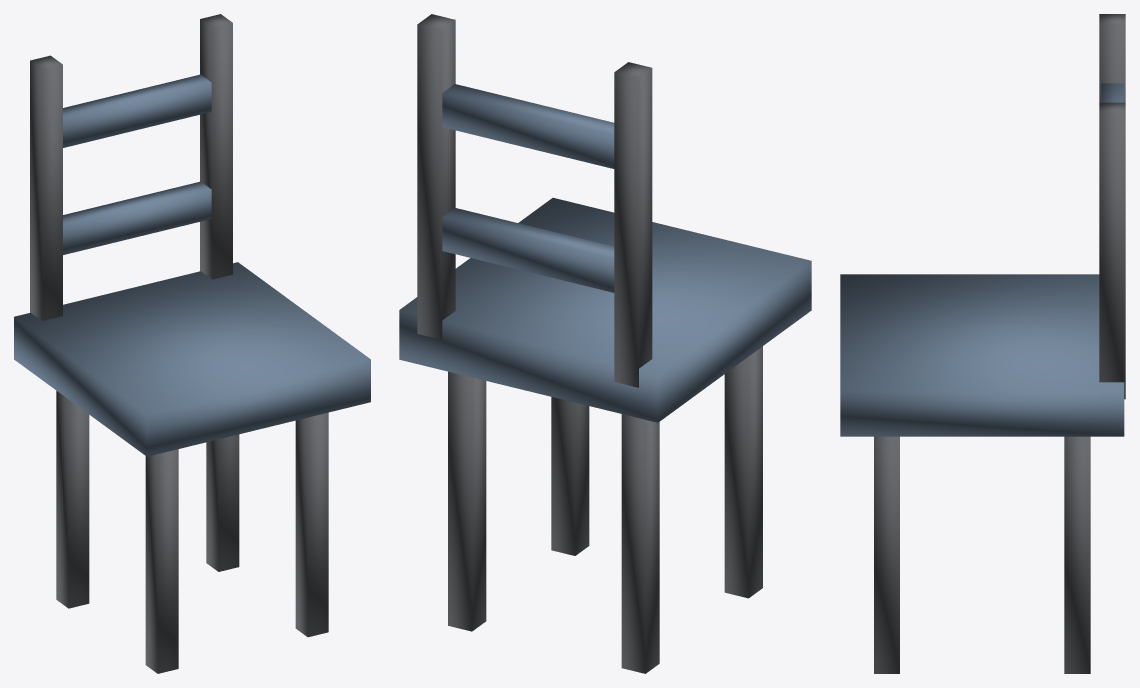
Rendered from armchair__compact.glb.
The picture shows the model from 3 angles, left to right: view 1: azimuth 30°, elevation 25°; view 2: azimuth 150°, elevation 25°; view 3: azimuth 270°, elevation 25°; orthographic projection. The views are drawn at different scales.
Parts seen in each view (by area): view 1: world; view 2: world; view 3: world.
Part boxes in pixels (bbox=[...]): world: bbox=[14, 14, 370, 673]; world: bbox=[399, 14, 811, 673]; world: bbox=[840, 14, 1125, 673].
Size of the model in its own units: 0.4071 by 0.92 by 0.4206.
